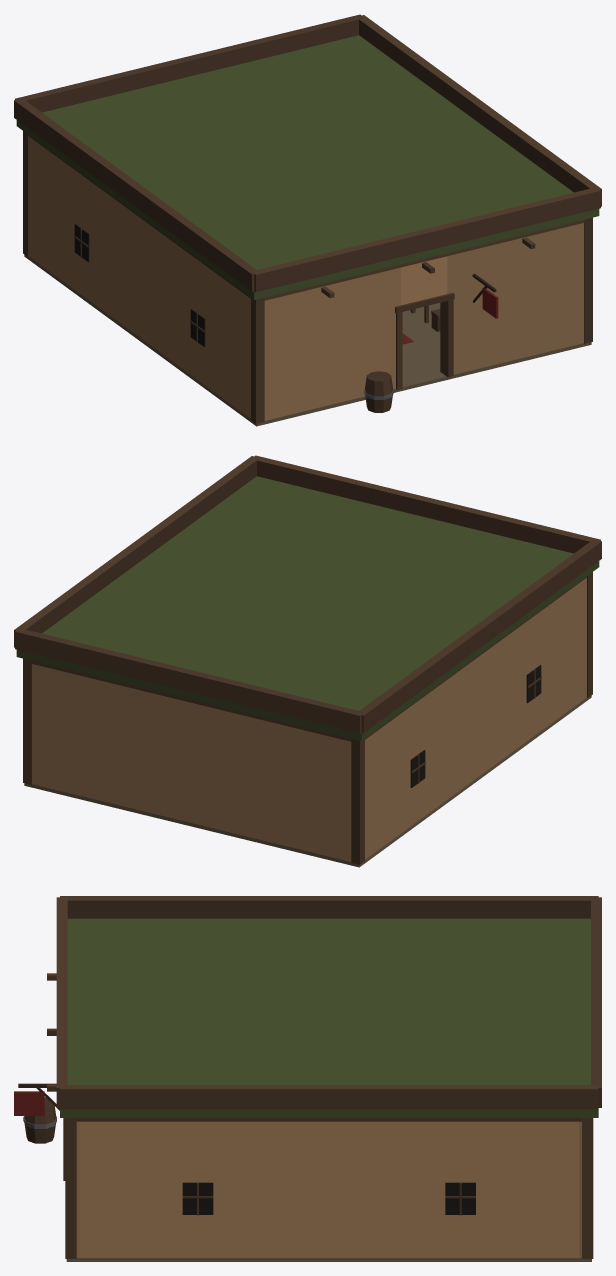
Rendered from walk_steppe_tavern.glb.
The picture shows the model from 3 angles, top to bottom: view 1: azimuth 30°, elevation 25°; view 2: azimuth 150°, elevation 25°; view 3: azimuth 270°, elevation 25°; orthographic projection. The views are drawn at different scales.
Visible parts, largest first — view 1: walk_steppe_tavern_roof, walk_steppe_tavern; view 2: walk_steppe_tavern_roof, walk_steppe_tavern; view 3: walk_steppe_tavern_roof, walk_steppe_tavern.
Part boxes in pixels (box(x1,y1,x2,y2)): walk_steppe_tavern_roof: box(14, 14, 601, 299); walk_steppe_tavern: box(23, 131, 592, 426); walk_steppe_tavern_roof: box(14, 455, 601, 740); walk_steppe_tavern: box(23, 572, 592, 867); walk_steppe_tavern_roof: box(56, 896, 601, 1117); walk_steppe_tavern: box(14, 973, 593, 1261).
Size of what is drawn, in the model's own units: 10.45 by 4.45 by 13.42.
2 materials, 2 textured.
